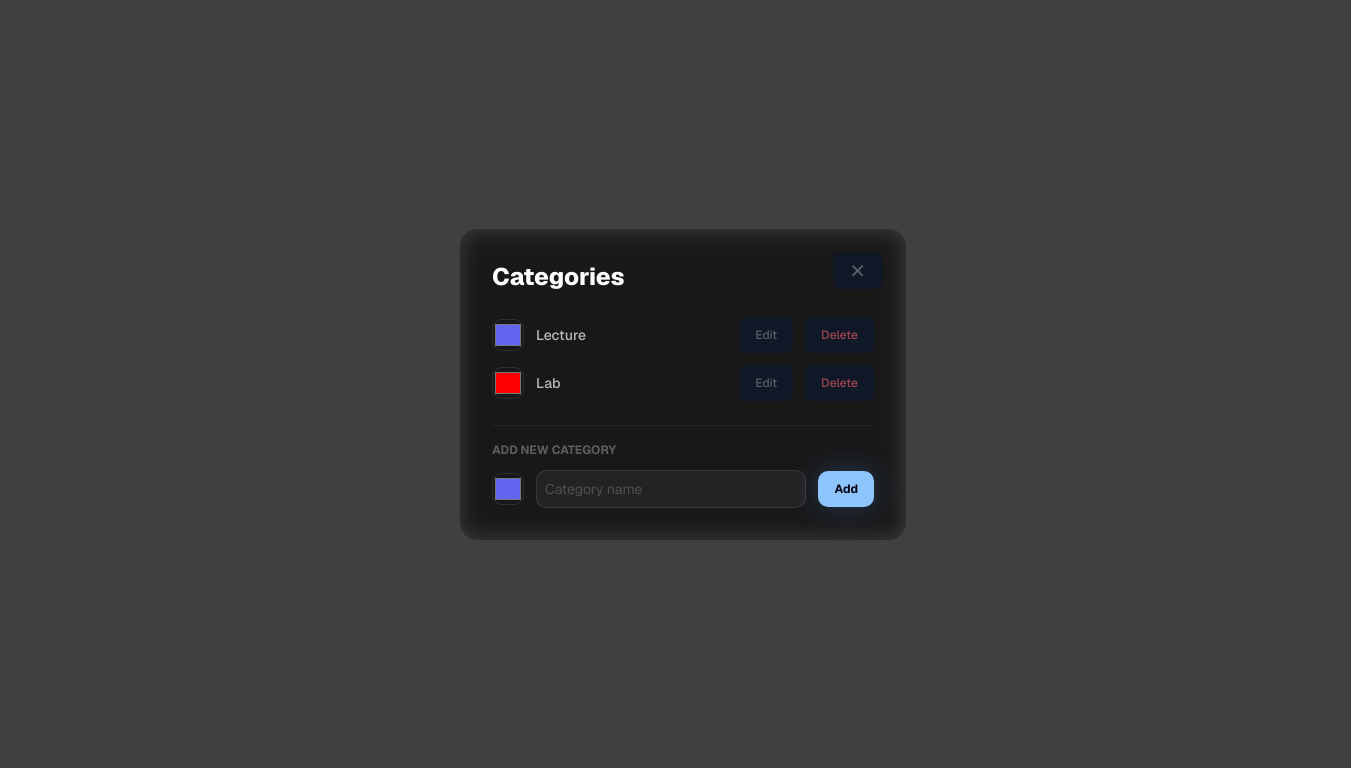
Test: CategoryManagerModal › CategoryRow › should show a duplicate colour error when another category uses the same colour
Note: Edit the first category
Step 1. Click the button "Edit" next to "Lecture" → (766,334), box [739, 316, 793, 352]
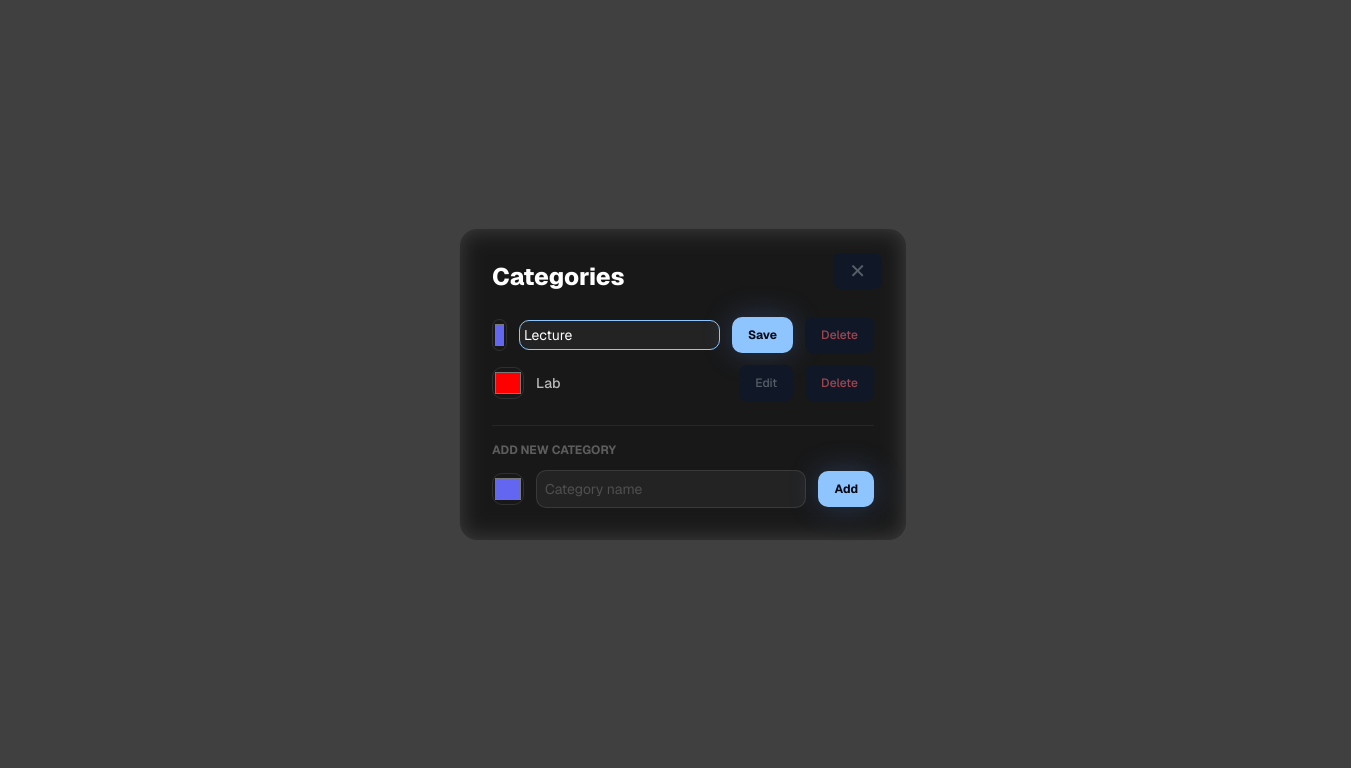
Note: Set colour to match the second category
Step 2. Type "#ff0000" into the 1st colour field showing "#" → (499,334), box [492, 318, 507, 350]
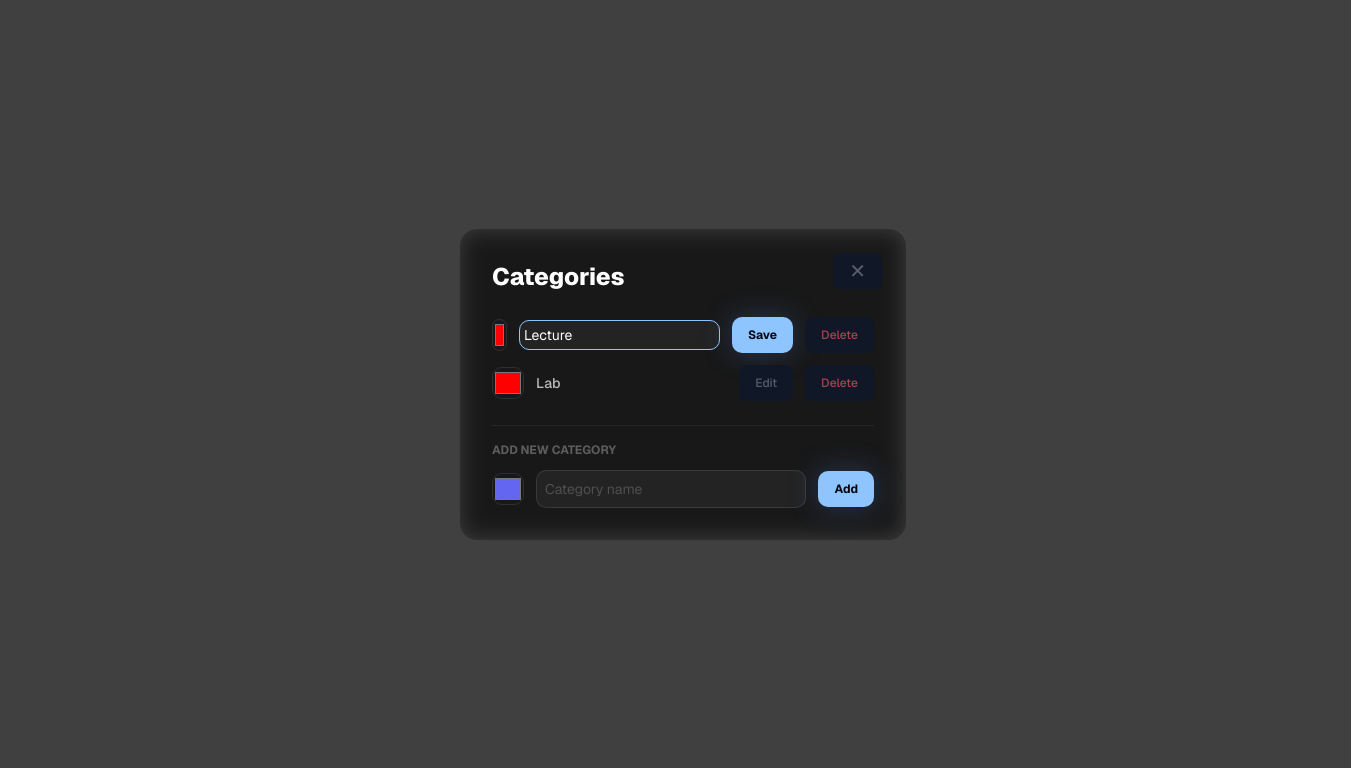
Step 3. Click the button "Save" → (762,334), box [732, 316, 793, 352]
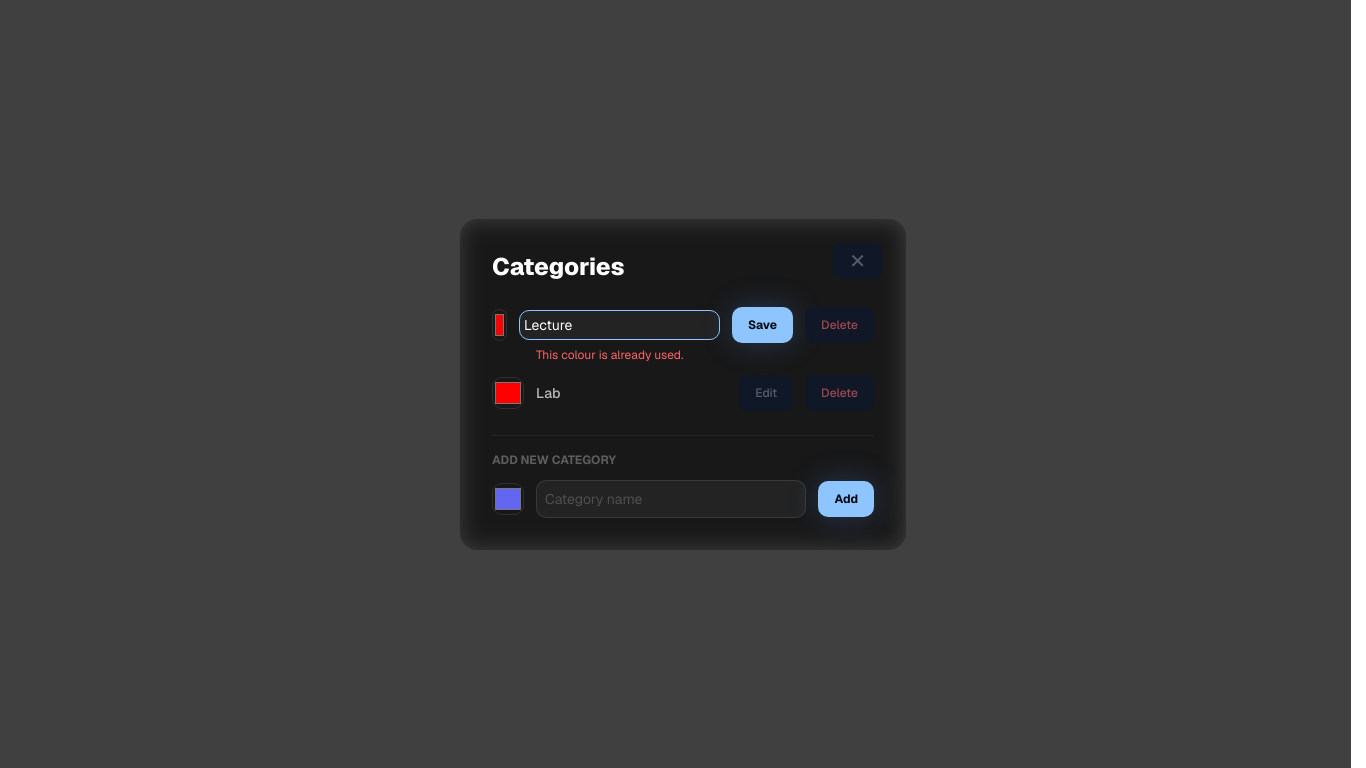
Check: the text "This colour is already used." is shown, box [536, 346, 683, 362]
